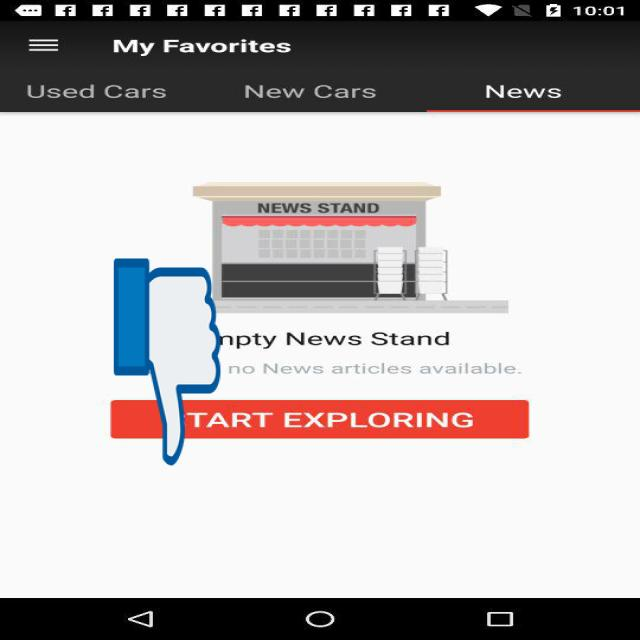obstruction: (114, 254, 220, 470)
